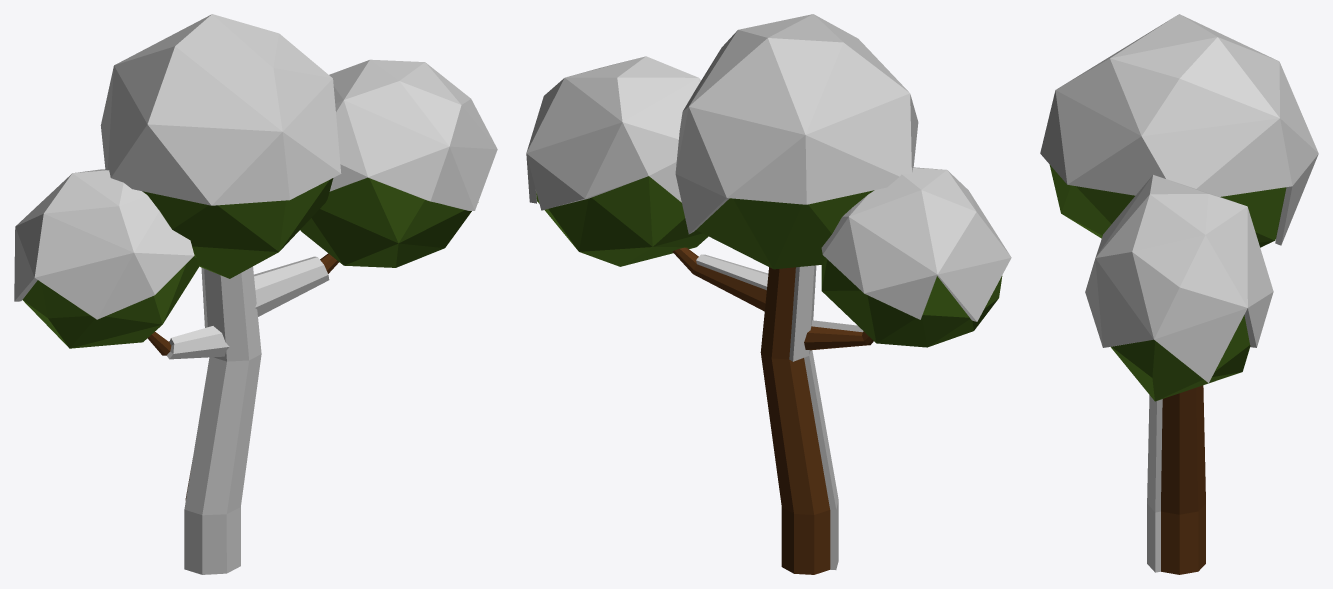
Rendered from Tree_19.fbx.
The picture shows the model from 3 angles, left to right: view 1: azimuth 30°, elevation 25°; view 2: azimuth 150°, elevation 25°; view 3: azimuth 270°, elevation 25°; orthographic projection.
Parts seen in each view (by area): view 1: Tree_19; view 2: Tree_19; view 3: Tree_19.
Boxes of the visible parts, x1,y1,x2,y2 form: Tree_19: (14, 14, 497, 574); Tree_19: (526, 14, 1011, 574); Tree_19: (1040, 14, 1318, 574).
Size of the model in its own units: 409 by 446 by 210.
